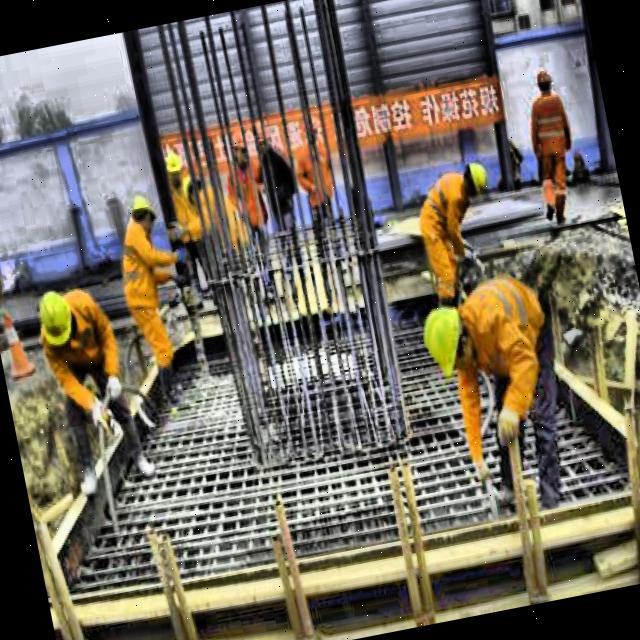helmet: (416, 301, 476, 380), (31, 286, 86, 366), (126, 186, 162, 238), (456, 152, 496, 198), (248, 113, 278, 158), (160, 146, 188, 190), (530, 58, 558, 98), (179, 166, 206, 206), (227, 127, 250, 164)
